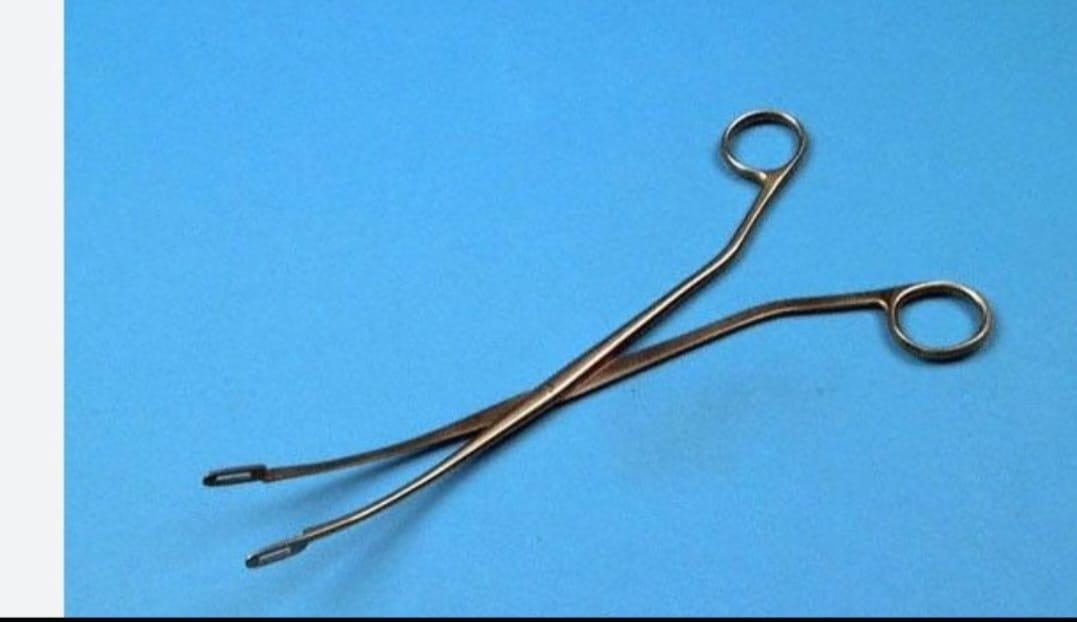Desjardin Forceps: (203, 85, 1006, 580)
